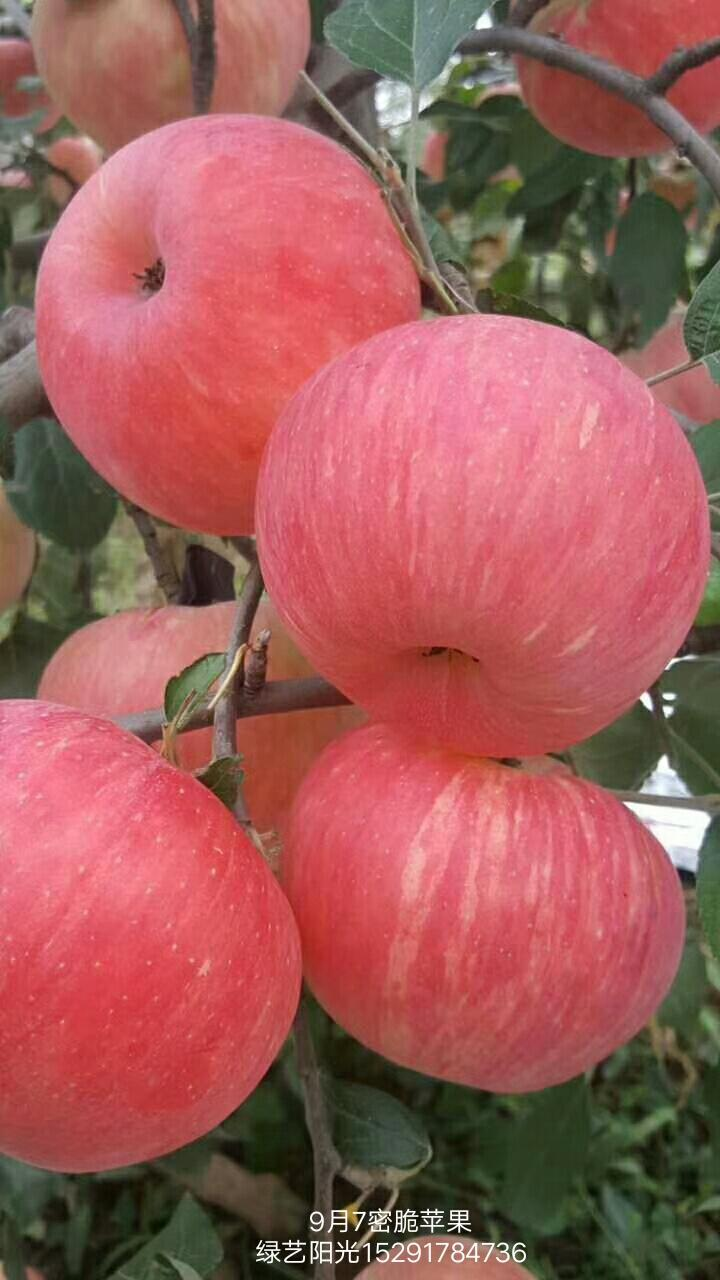apple: (251, 311, 708, 757), (30, 106, 423, 529), (276, 721, 686, 1093), (1, 704, 301, 1192)
